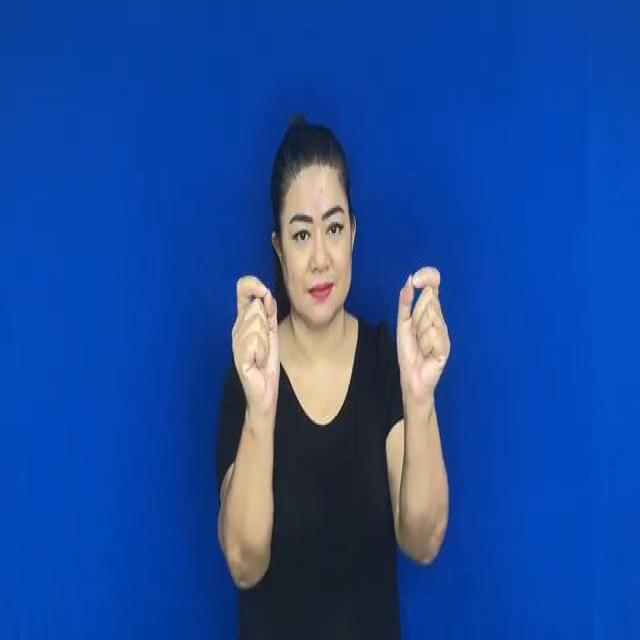crab: (223, 269, 288, 424), (390, 261, 454, 414)
